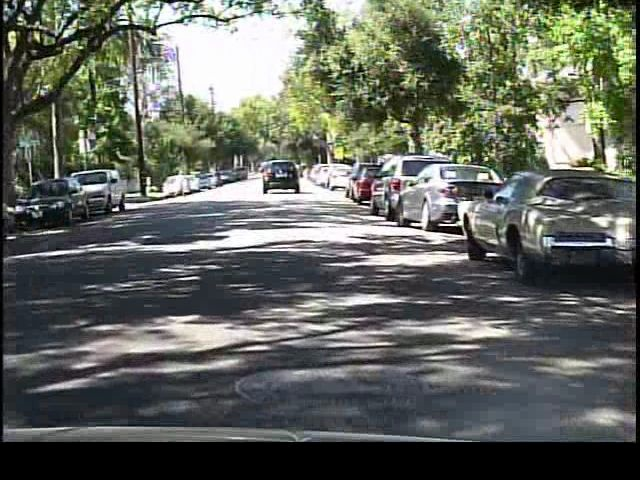person: (173, 167, 190, 200)
